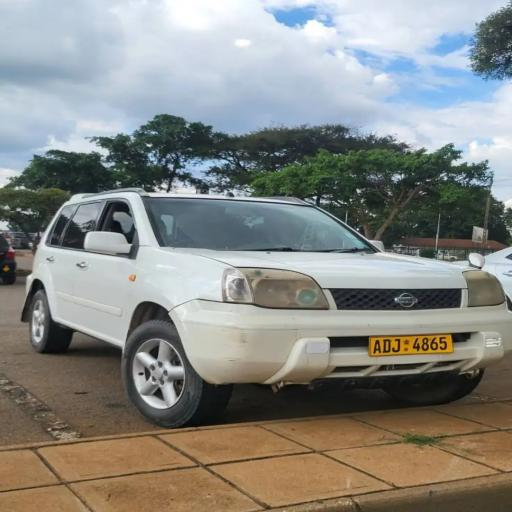number-plates: (368, 334, 454, 354)
